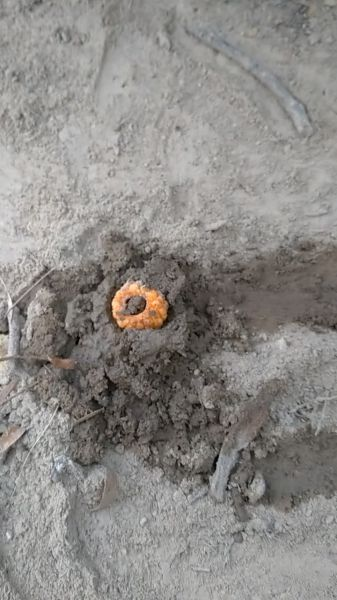eggs: (102, 275, 176, 336)
